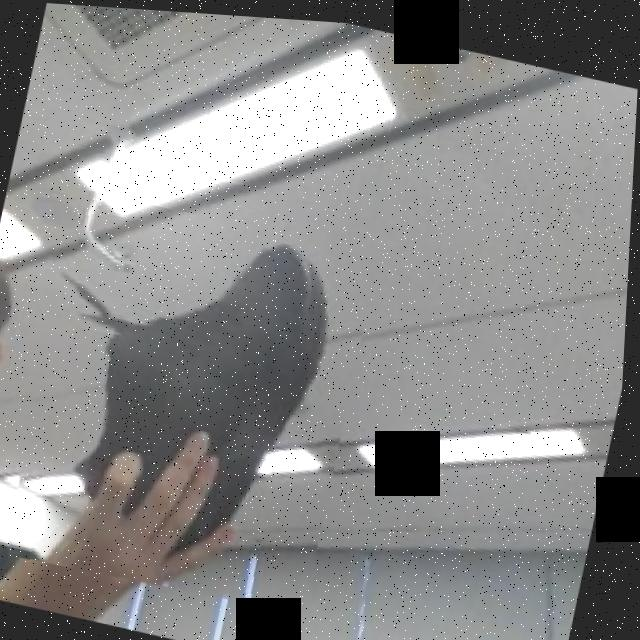shoe: (0, 181, 384, 619)
